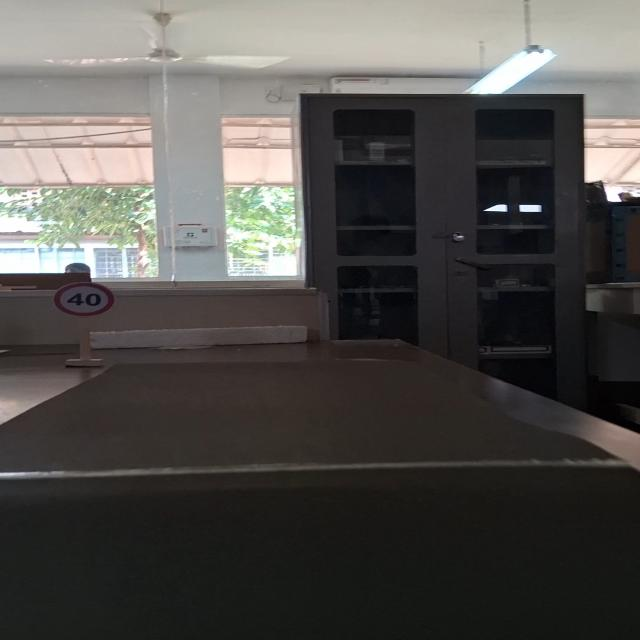Speed40: (51, 280, 116, 318)
